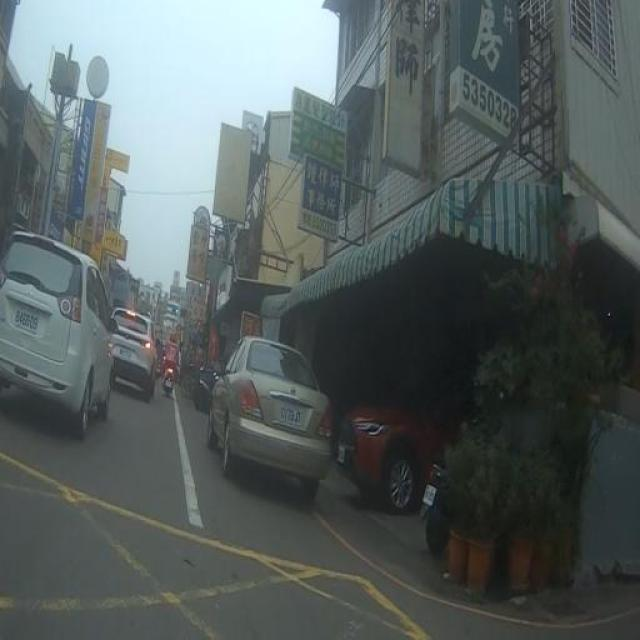Legalparking: (336, 406, 449, 512)
illegalparking: (208, 338, 331, 500)
